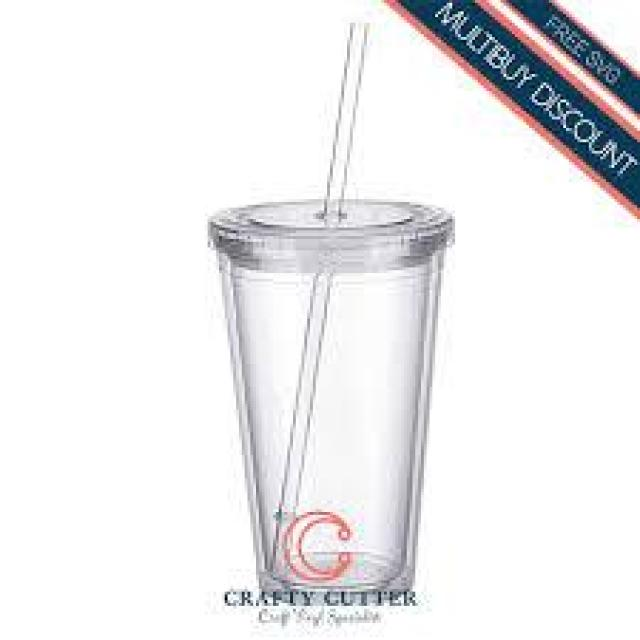bottle: (209, 24, 457, 596)
